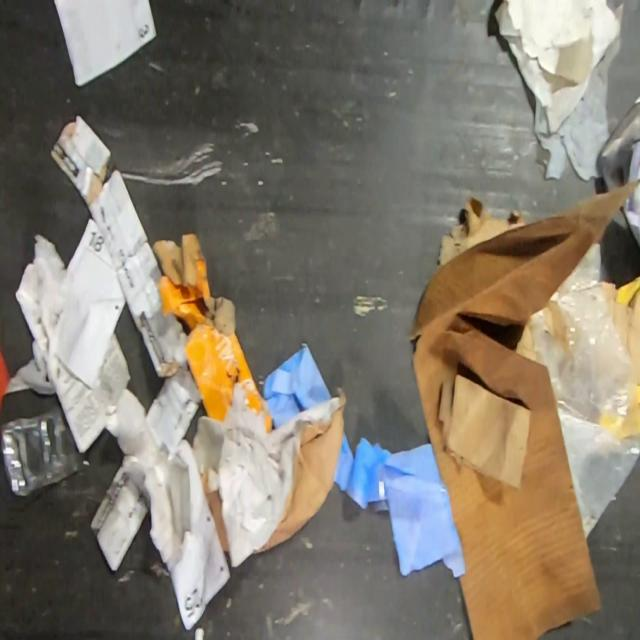cardboard: (411, 180, 639, 639), (192, 380, 348, 568), (152, 233, 271, 432), (600, 279, 640, 383)
soft_plastic: (517, 261, 640, 538)
